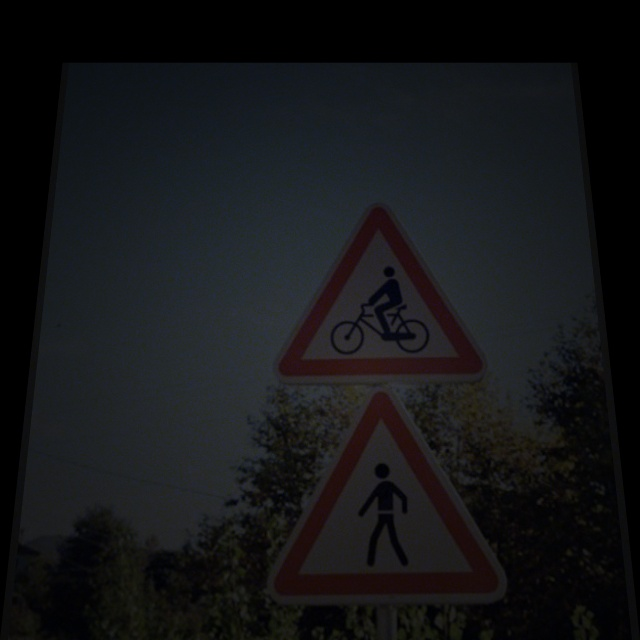Cycle_Crossing: (272, 203, 485, 380)
